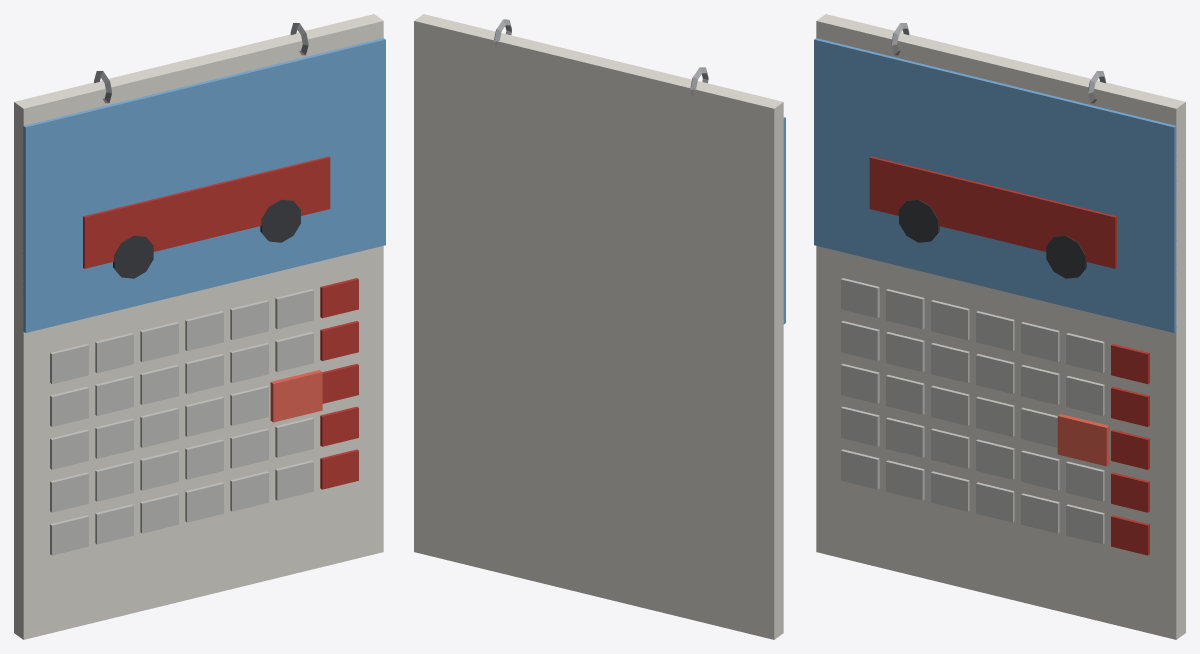
Rendered from wall_calendar.glb.
3 renders of one model, left to right at view 1: azimuth 30°, elevation 25°; view 2: azimuth 150°, elevation 25°; view 3: azimuth 330°, elevation 25°, orthographic.
Visible parts, largest first — view 1: wall_calendar; view 2: wall_calendar; view 3: wall_calendar.
Part boxes in pixels (bbox=[...]): wall_calendar: bbox=[14, 14, 385, 639]; wall_calendar: bbox=[414, 14, 785, 639]; wall_calendar: bbox=[814, 14, 1185, 639].
Size of the model in its own units: 0.44 by 0.639 by 0.038.
